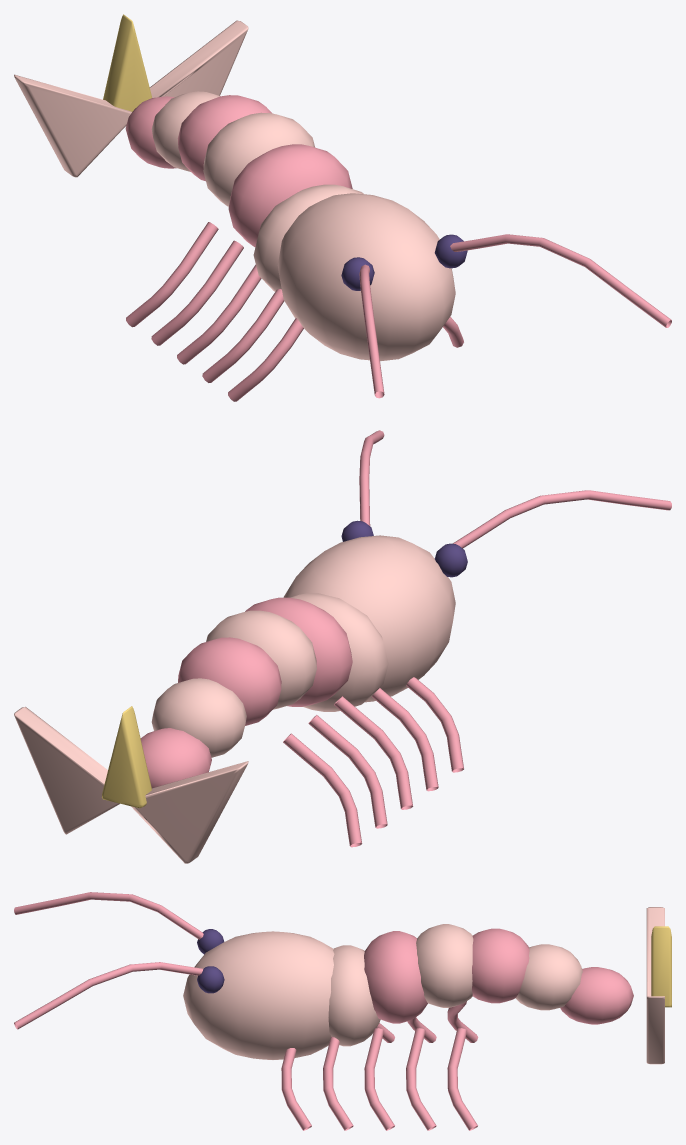
Rendered from shrimp.glb.
The picture shows the model from 3 angles, top to bottom: view 1: azimuth 30°, elevation 25°; view 2: azimuth 150°, elevation 25°; view 3: azimuth 270°, elevation 25°; orthographic projection. The views are drawn at different scales.
Parts seen in each view (by area): view 1: Carapace, Abdomen_2, TailFan_-1.0, Abdomen_3, TailFan_1.0, Abdomen_4, Abdomen_1, TailFanCenter, Antenna_1.001, Abdomen_5, Abdomen_6, WalkingLeg_-1.0_4 (+7 smaller); view 2: Carapace, TailFan_1.0, TailFan_-1.0, Abdomen_4, Abdomen_5, Abdomen_3, Abdomen_2, Abdomen_1, TailFanCenter, Abdomen_6, Antenna_-1.001, WalkingLeg_-1.0_3 (+6 smaller); view 3: Carapace, Abdomen_2, Abdomen_3, Abdomen_1, Abdomen_4, Abdomen_5, Abdomen_6, Antenna_1.001, Antenna_-1.001, TailFanCenter, TailFan_1.0, WalkingLeg_1.0_4 (+8 smaller).
Boxes of the visible parts, x1,y1,x2,y2 form: Carapace: (277, 193, 455, 361); Abdomen_2: (228, 144, 352, 246); TailFan_-1.0: (14, 74, 131, 177); Abdomen_3: (203, 112, 314, 206); TailFan_1.0: (149, 20, 248, 97); Abdomen_4: (177, 95, 271, 181); Abdomen_1: (253, 184, 363, 291); TailFanCenter: (103, 14, 151, 111); Antenna_1.001: (450, 234, 671, 327); Abdomen_5: (151, 91, 220, 171); Abdomen_6: (125, 96, 176, 168); WalkingLeg_-1.0_4: (151, 240, 243, 345); Carapace: (283, 535, 455, 702); TailFan_1.0: (14, 706, 119, 834); TailFan_-1.0: (131, 761, 248, 863); Abdomen_4: (178, 637, 281, 725); Abdomen_5: (151, 678, 246, 757); Abdomen_3: (206, 610, 316, 709); Abdomen_2: (245, 597, 352, 706); Abdomen_1: (290, 593, 388, 711); TailFanCenter: (102, 706, 151, 808); Abdomen_6: (140, 728, 211, 787); Antenna_-1.001: (453, 490, 671, 548); WalkingLeg_-1.0_3: (334, 696, 413, 809); Carapace: (183, 931, 334, 1059); Abdomen_2: (364, 931, 427, 1023); Abdomen_3: (416, 924, 473, 1007); Abdomen_1: (328, 945, 380, 1046); Abdomen_4: (472, 928, 529, 1003); Abdomen_5: (515, 944, 582, 1010); Abdomen_6: (560, 967, 633, 1024); Antenna_1.001: (14, 962, 203, 1029); Antenna_-1.001: (14, 892, 203, 939); TailFanCenter: (651, 926, 671, 1007); TailFan_1.0: (646, 996, 664, 1064); WalkingLeg_1.0_4: (406, 1028, 436, 1130).
Size of the model in its own units: 2.42 by 1.53 by 5.71.
